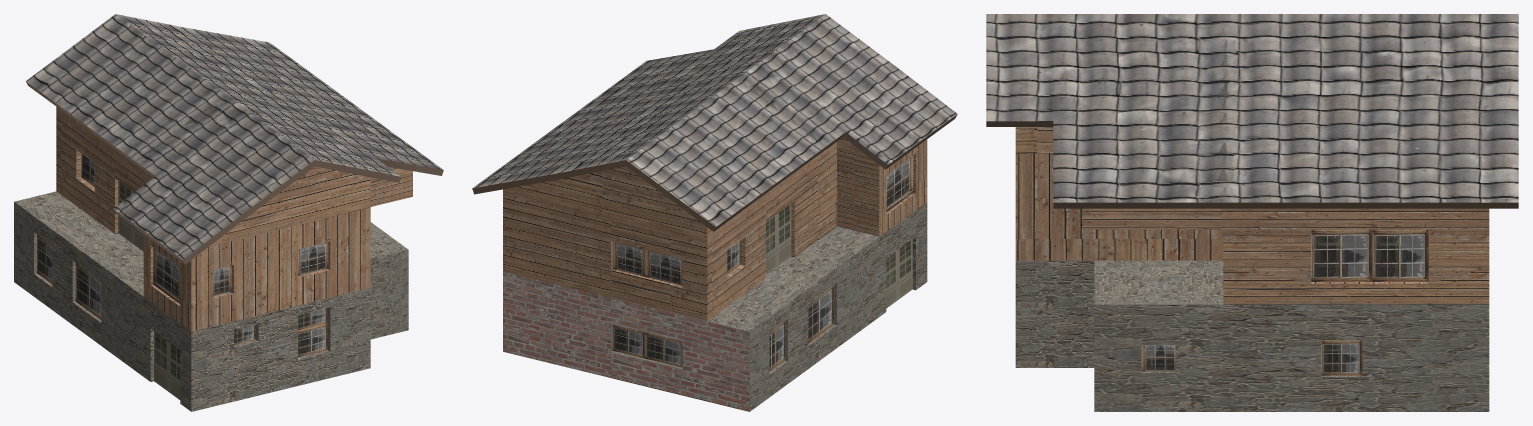
File: sb_house_wood_2_mj.fbx
3 renders of one model, left to right at view 1: azimuth 30°, elevation 25°; view 2: azimuth 150°, elevation 25°; view 3: azimuth 270°, elevation 25°, orthographic. The views are drawn at different scales.
Parts seen in each view (by area): view 1: Box001; view 2: Box001; view 3: Box001.
Boxes of the visible parts, box(x1,y1,x2,y2) form: Box001: box(14, 14, 443, 411); Box001: box(472, 14, 957, 411); Box001: box(986, 14, 1518, 411).
Size of the model in its own units: 11.17 by 8.68 by 13.49.
